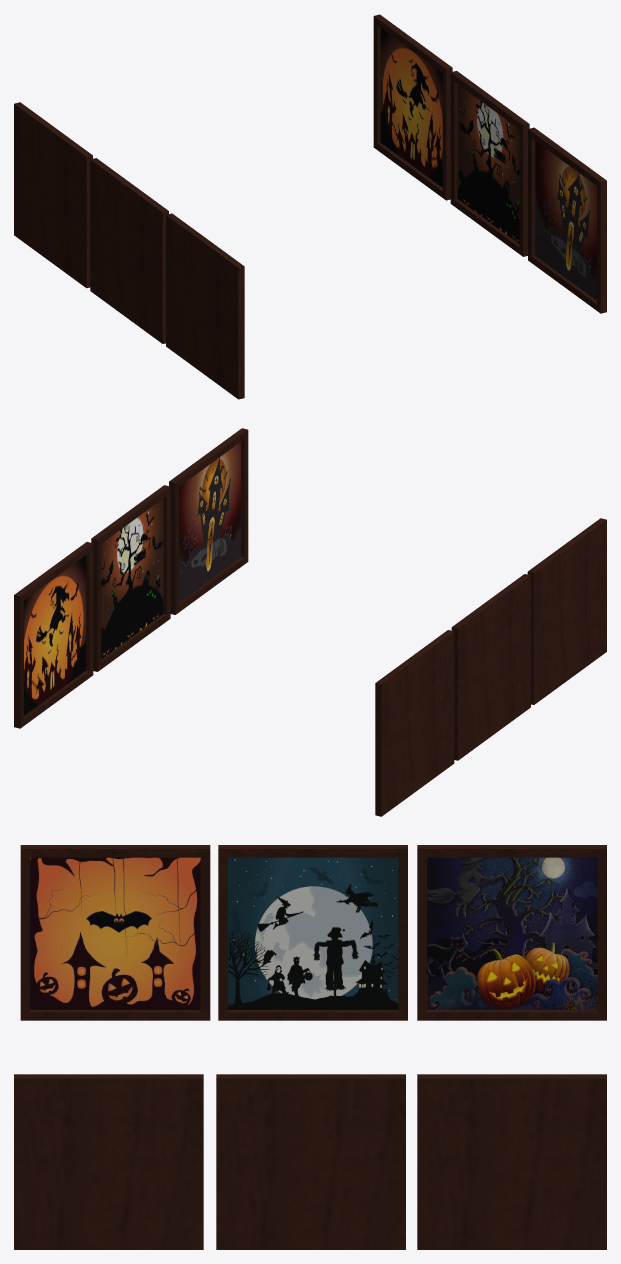
File: paint.fbx
3 renders of one model, top to bottom at view 1: azimuth 30°, elevation 25°; view 2: azimuth 150°, elevation 25°; view 3: azimuth 270°, elevation 25°, orthographic. The views are drawn at different scales.
Visible parts, largest first — view 1: polySurface22, polySurface24, polySurface20, polySurface23, polySurface19, polySurface21; view 2: polySurface19, polySurface20, polySurface24, polySurface23, polySurface21, polySurface22; view 3: polySurface22, polySurface19, polySurface20, polySurface21, polySurface23, polySurface24.
Boxes of the visible parts, bbox=[...] form: polySurface22: bbox=[166, 213, 244, 399]; polySurface24: bbox=[528, 127, 606, 313]; polySurface20: bbox=[373, 14, 452, 200]; polySurface23: bbox=[450, 71, 529, 256]; polySurface19: bbox=[14, 102, 92, 288]; polySurface21: bbox=[90, 158, 168, 343]; polySurface19: bbox=[375, 630, 454, 816]; polySurface20: bbox=[14, 542, 93, 728]; polySurface24: bbox=[169, 428, 248, 614]; polySurface23: bbox=[91, 485, 170, 671]; polySurface21: bbox=[451, 574, 530, 760]; polySurface22: bbox=[527, 518, 606, 704]; polySurface22: bbox=[20, 845, 210, 1020]; polySurface19: bbox=[417, 845, 606, 1020]; polySurface20: bbox=[417, 1074, 606, 1249]; polySurface21: bbox=[218, 845, 407, 1020]; polySurface23: bbox=[216, 1074, 405, 1249]; polySurface24: bbox=[14, 1074, 203, 1249].
Size of the model in its own units: 582 by 200 by 626.
Materials: 7 (7 with a texture image).
